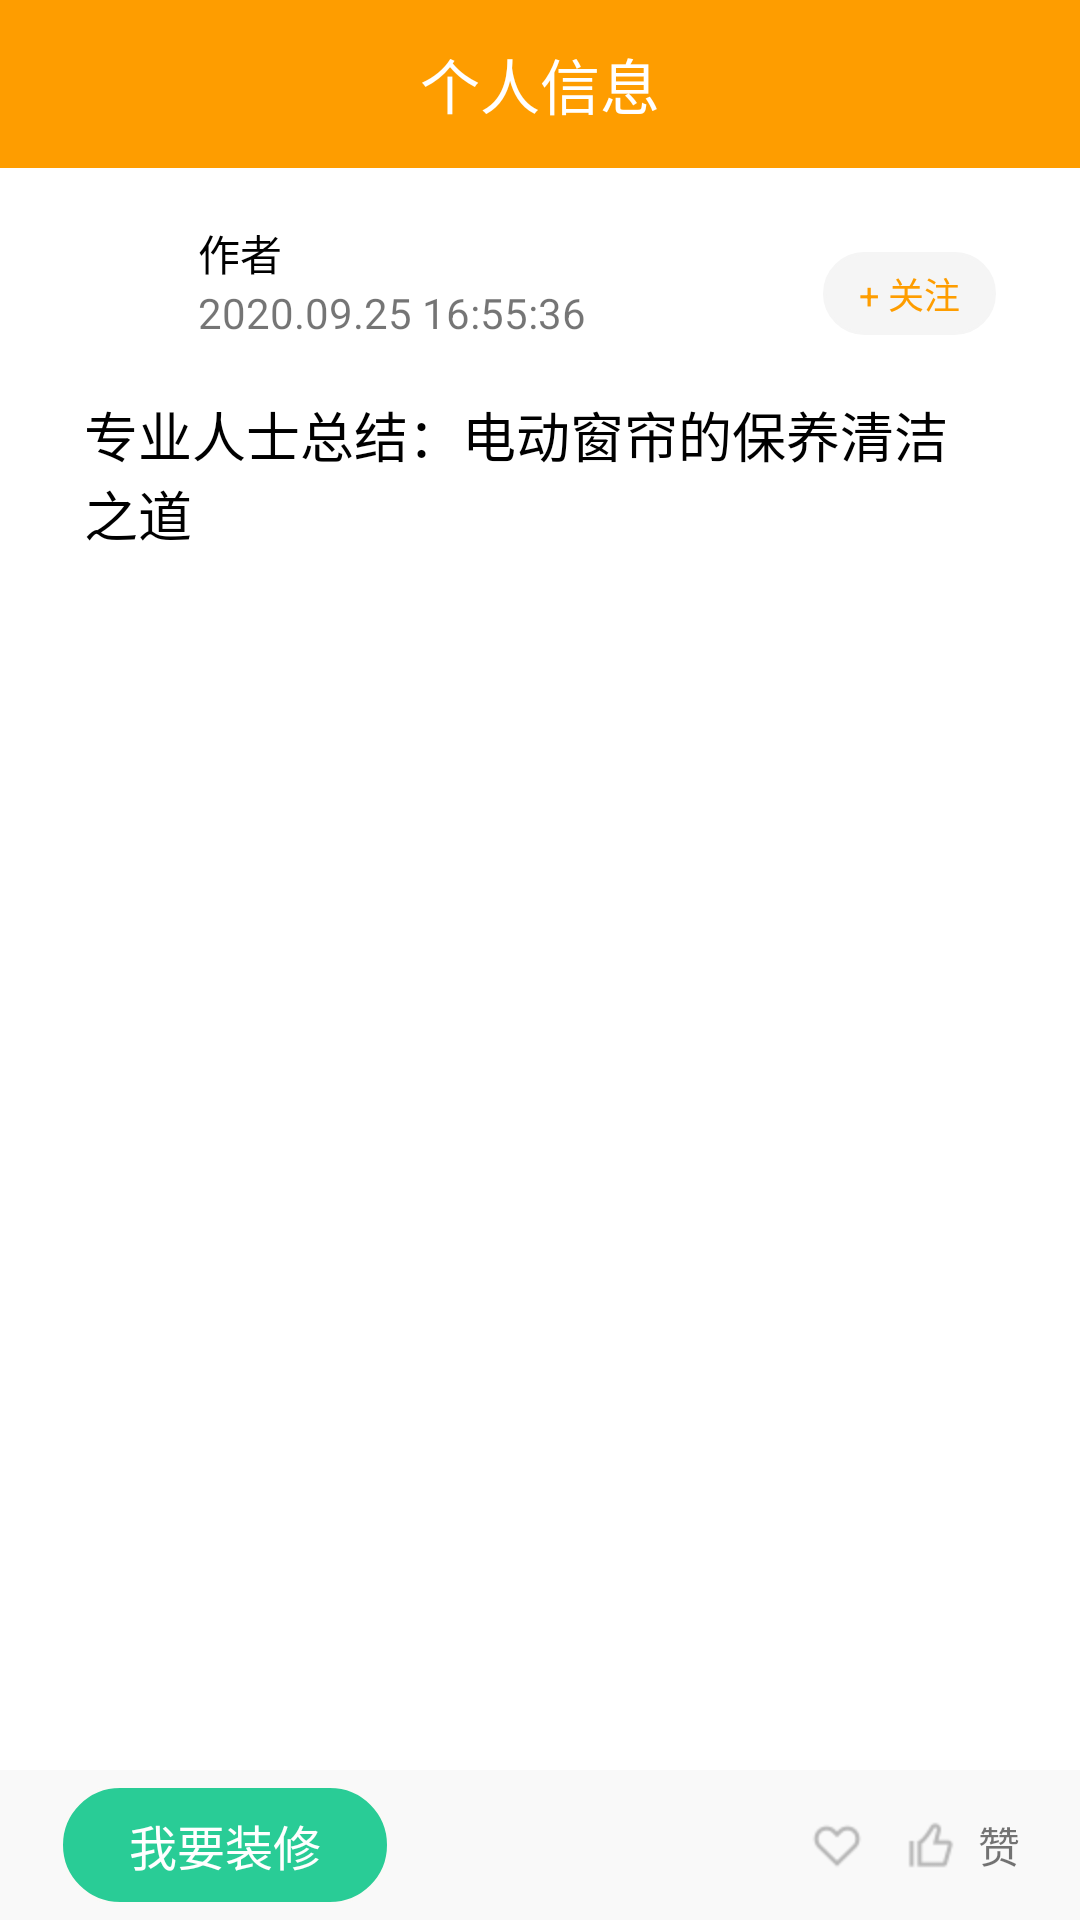

Icons on this 1080×1920 Android screen, each with its box as (x1, y1, x2, y2):
favorites: (814, 1826, 860, 1866)
